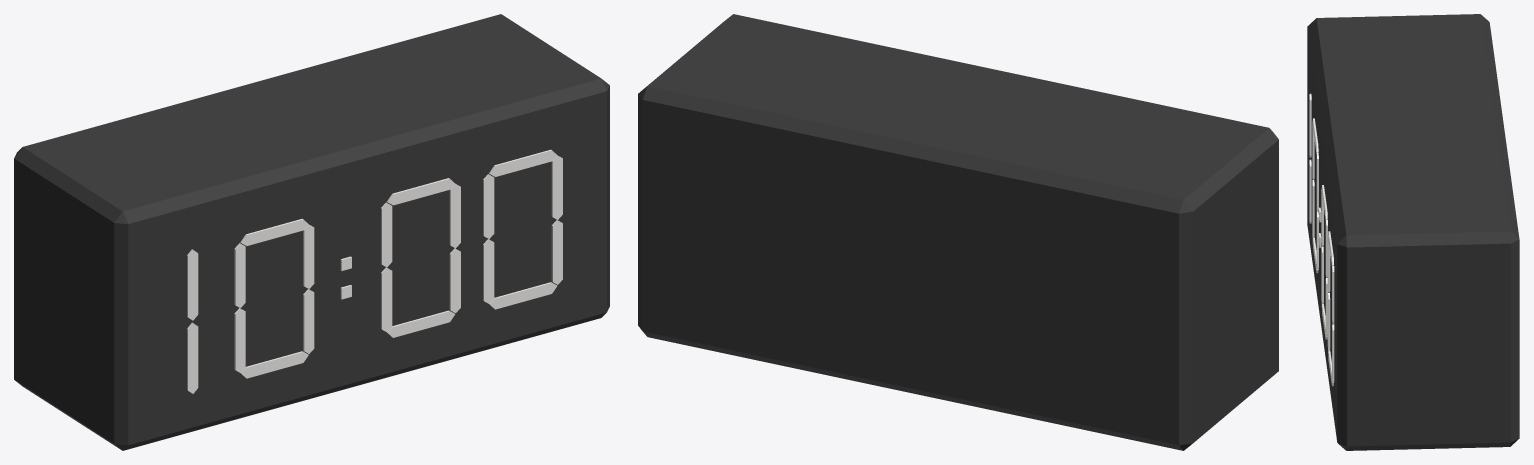
Rendered from Clock_3.fbx.
3 renders of one model, left to right at view 1: azimuth 30°, elevation 25°; view 2: azimuth 150°, elevation 25°; view 3: azimuth 270°, elevation 25°, orthographic. The views are drawn at different scales.
Parts seen in each view (by area): view 1: Clock_3; view 2: Clock_3; view 3: Clock_3.
Boxes of the visible parts, bbox=[...] form: Clock_3: bbox=[14, 14, 609, 450]; Clock_3: bbox=[638, 14, 1278, 450]; Clock_3: bbox=[1307, 14, 1519, 450].
Bounding box in the file's own units: 29.2 × 11.42 × 12.81.
